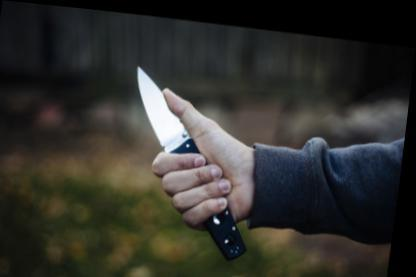knife: (118, 54, 239, 193)
